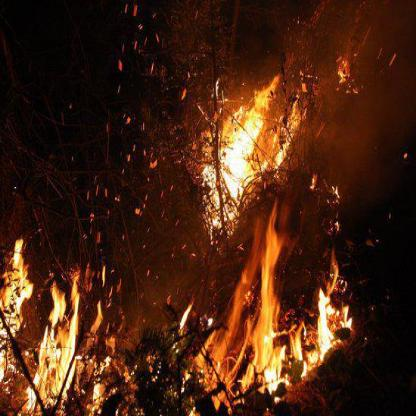fire: (202, 209, 356, 390), (1, 234, 116, 414), (197, 66, 311, 188)
